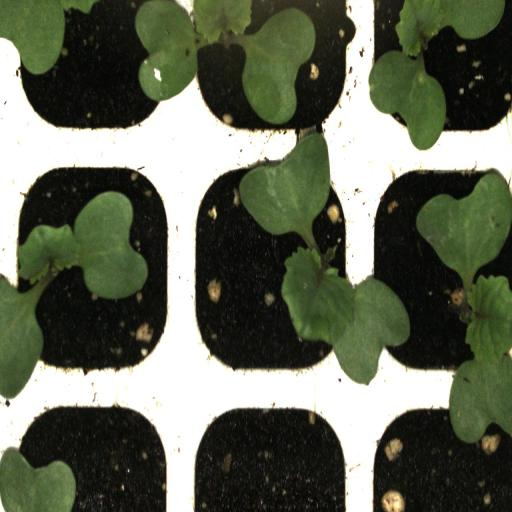seedling: (177, 142, 364, 394), (5, 142, 176, 394), (367, 140, 512, 387), (179, 0, 362, 132), (367, 0, 512, 138)
